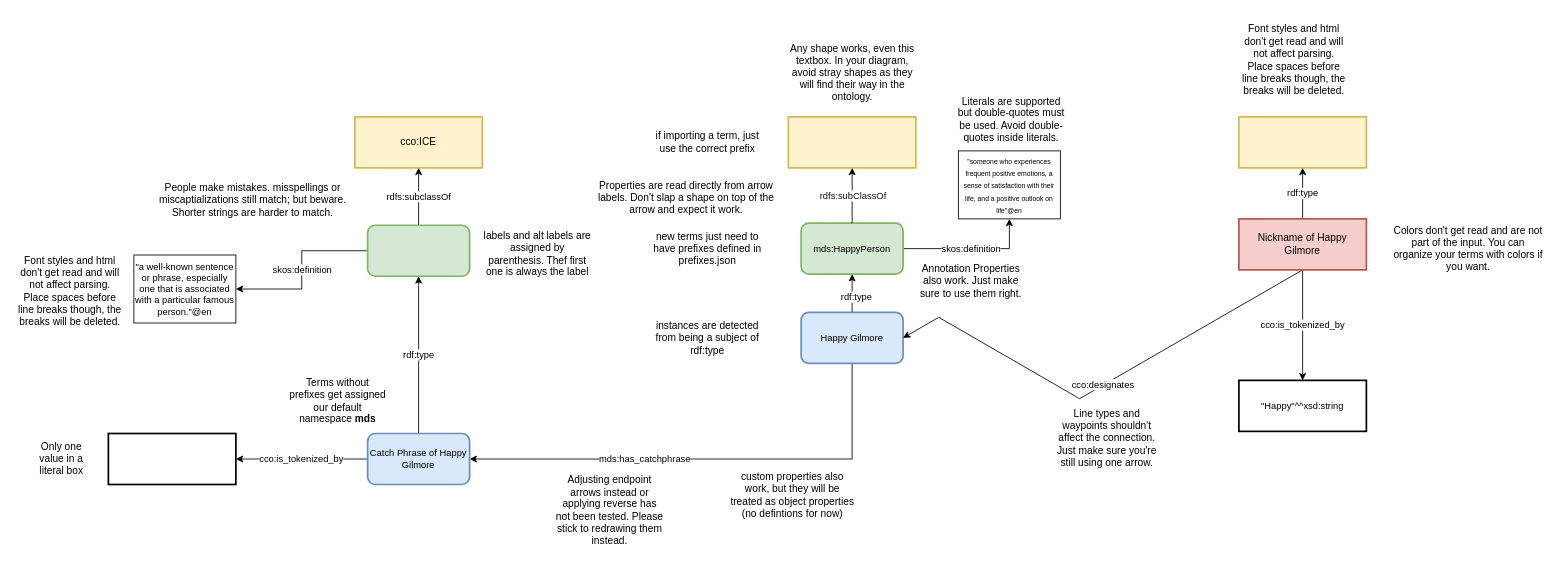
Some shapes in this 1559 by 569 pixel diagram are drawn without their labels. The shapes that lost their labels are listed below. From the top down, each one's centre as x and y in pixels, then its label:
(x=851, y=142): cco:Person
(x=1302, y=142): cco:Nickname
(x=418, y=250): mds:CatchPhrase (catch phrase, slogan)
(x=171, y=458): "¿Por que no te vas a casa? ¡Eso es tu casa"@es
